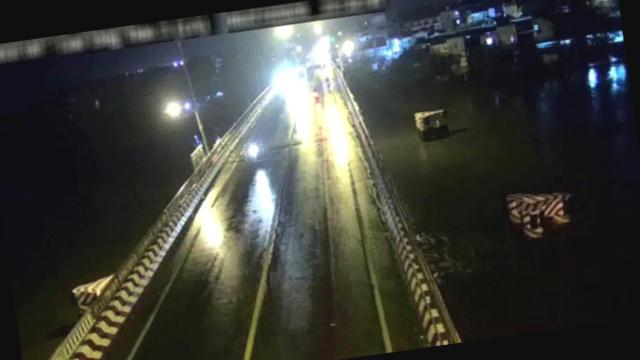Bike: (243, 142, 264, 162)
